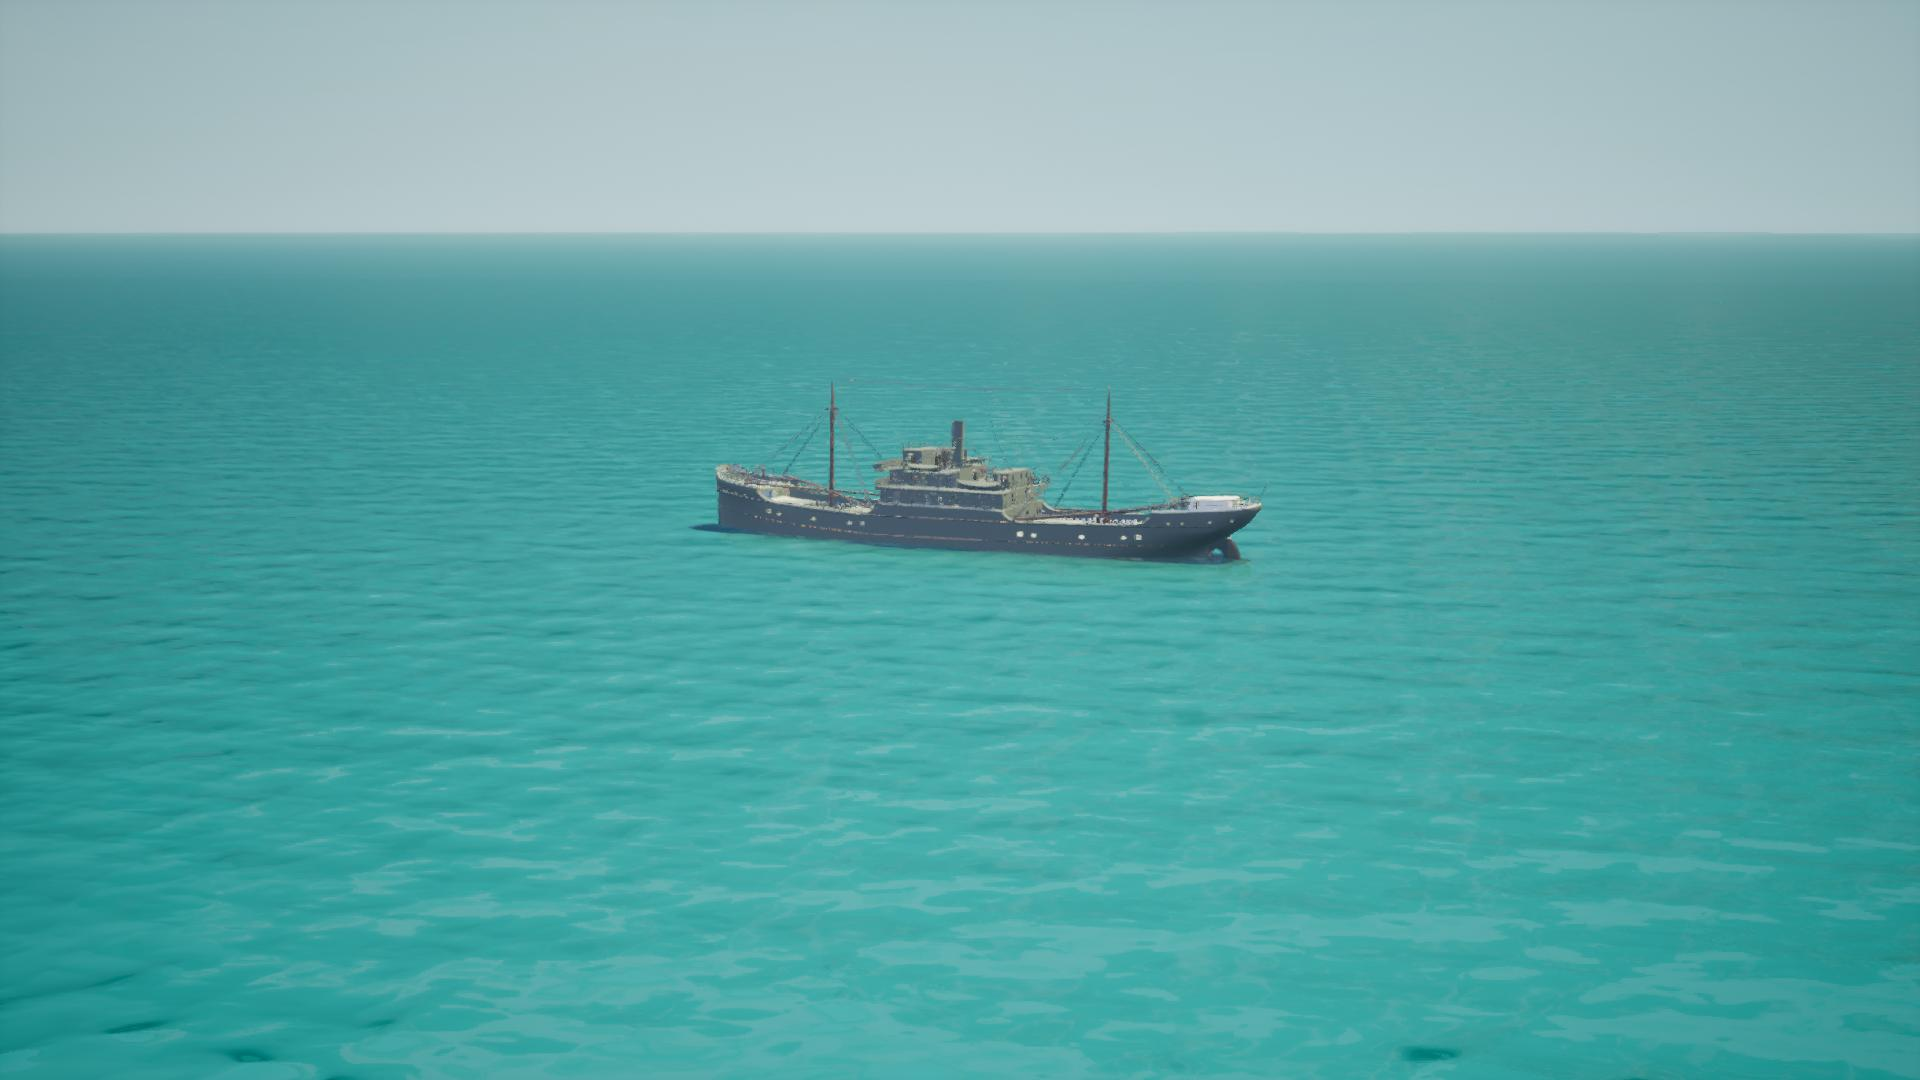Fishing Boat: (709, 393, 1257, 563)
